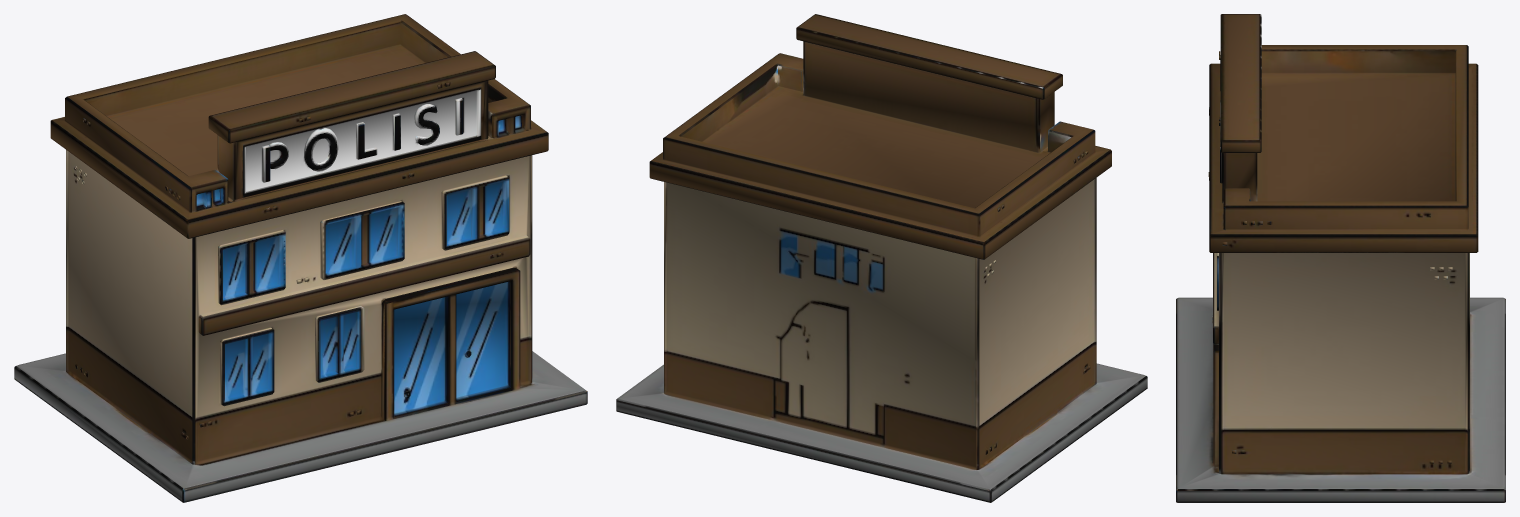
The model's file is kantor_polisi.glb.
3 renders of one model, left to right at view 1: azimuth 30°, elevation 25°; view 2: azimuth 150°, elevation 25°; view 3: azimuth 270°, elevation 25°, orthographic. The views are drawn at different scales.
Visible parts, largest first — view 1: tripo_node_25906b27; view 2: tripo_node_25906b27; view 3: tripo_node_25906b27.
Boxes of the visible parts, x1=… form: tripo_node_25906b27: x1=14, y1=14, x2=587, y2=502; tripo_node_25906b27: x1=616, y1=14, x2=1147, y2=502; tripo_node_25906b27: x1=1176, y1=14, x2=1505, y2=502.
Size of the model in its own units: 1 by 0.8006 by 0.7246.
Materials: 1 (1 with a texture image).
